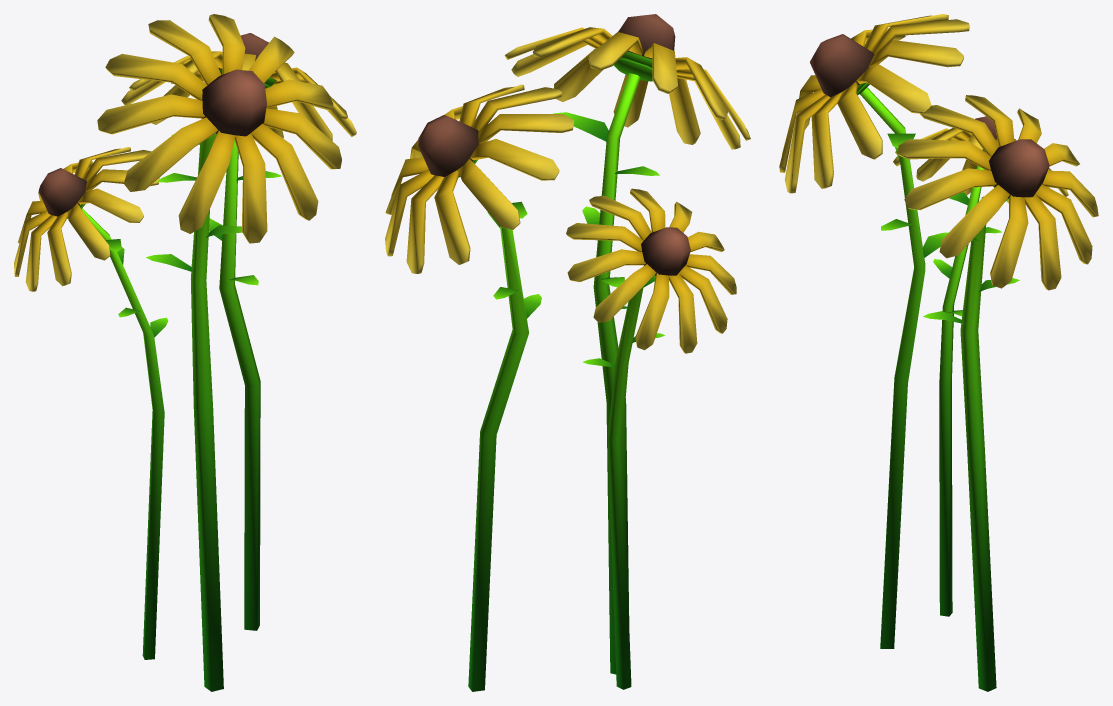
File: YellowConeflower.fbx
3 renders of one model, left to right at view 1: azimuth 30°, elevation 25°; view 2: azimuth 150°, elevation 25°; view 3: azimuth 270°, elevation 25°, orthographic. The views are drawn at different scales.
Visible parts, largest first — view 1: Cube.045; view 2: Cube.045; view 3: Cube.045.
Part boxes in pixels (bbox=[...]): Cube.045: bbox=[14, 14, 356, 691]; Cube.045: bbox=[385, 14, 750, 691]; Cube.045: bbox=[779, 14, 1098, 691].
Bounding box in the file's own units: 56.18 × 109 × 51.1.
